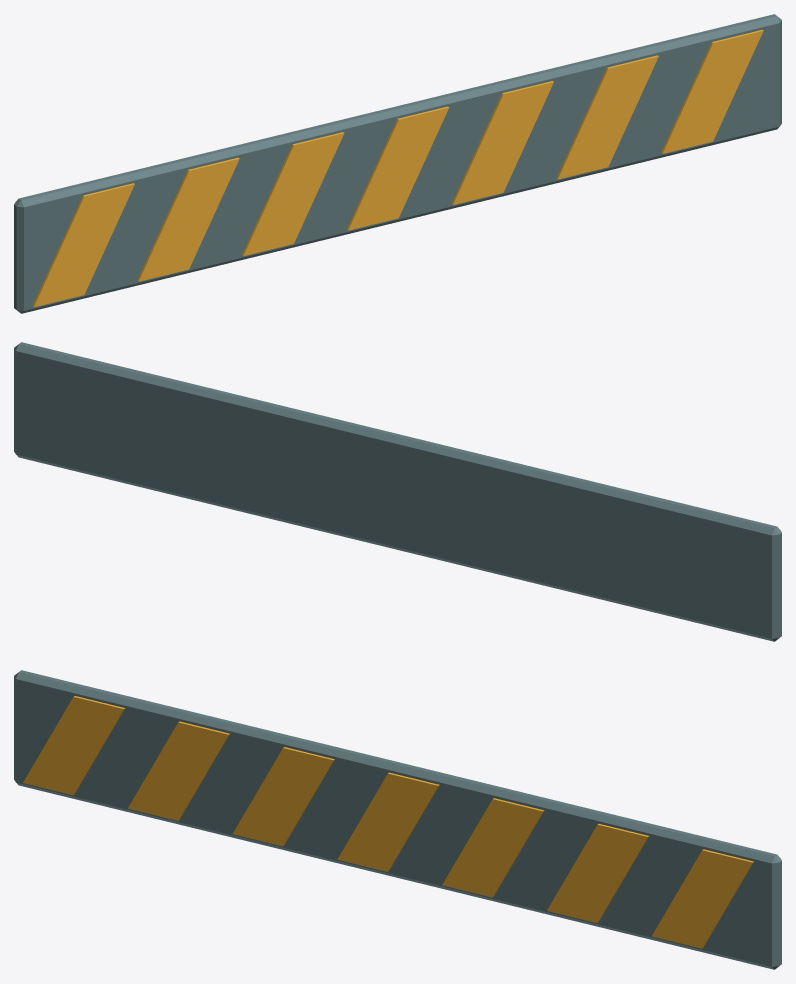
The model's file is Signs-WarningStripe.fbx.
3 views of the same model, one above another, from view 1: azimuth 30°, elevation 25°; view 2: azimuth 150°, elevation 25°; view 3: azimuth 330°, elevation 25° (orthographic).
Visible parts, largest first — view 1: Backing Strip, Diagonal Caution Stripe.001, Diagonal Caution Stripe, Diagonal Caution Stripe.005, Diagonal Caution Stripe.006, Diagonal Caution Stripe.002, Diagonal Caution Stripe.003, Diagonal Caution Stripe.004; view 2: Backing Strip; view 3: Backing Strip, Diagonal Caution Stripe.002, Diagonal Caution Stripe, Diagonal Caution Stripe.004, Diagonal Caution Stripe.005, Diagonal Caution Stripe.006, Diagonal Caution Stripe.003, Diagonal Caution Stripe.001.
Part boxes in pixels (left/top/right/bottom): Backing Strip: left=14, top=14, right=781, bottom=313; Diagonal Caution Stripe.001: left=137, top=157, right=239, bottom=281; Diagonal Caution Stripe: left=32, top=183, right=134, bottom=307; Diagonal Caution Stripe.005: left=556, top=55, right=658, bottom=179; Diagonal Caution Stripe.006: left=661, top=30, right=763, bottom=153; Diagonal Caution Stripe.002: left=242, top=132, right=344, bottom=256; Diagonal Caution Stripe.003: left=347, top=106, right=449, bottom=230; Diagonal Caution Stripe.004: left=452, top=81, right=553, bottom=204; Backing Strip: left=14, top=342, right=781, bottom=641; Backing Strip: left=14, top=670, right=781, bottom=969; Diagonal Caution Stripe.002: left=232, top=747, right=334, bottom=846; Diagonal Caution Stripe: left=23, top=696, right=125, bottom=795; Diagonal Caution Stripe.004: left=442, top=798, right=544, bottom=897; Diagonal Caution Stripe.005: left=547, top=824, right=648, bottom=923; Diagonal Caution Stripe.006: left=651, top=849, right=753, bottom=948; Diagonal Caution Stripe.003: left=337, top=772, right=439, bottom=871; Diagonal Caution Stripe.001: left=128, top=721, right=229, bottom=820.
Bounding box in the file's own units: 0.65 × 0.092 × 0.014.
